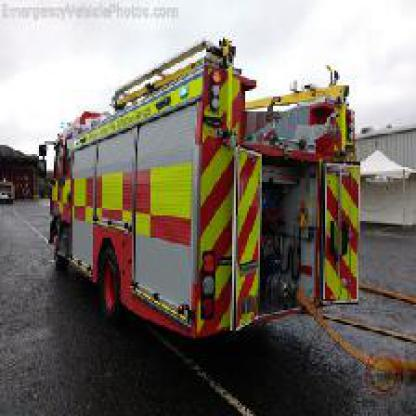emergency: (33, 32, 366, 346)
